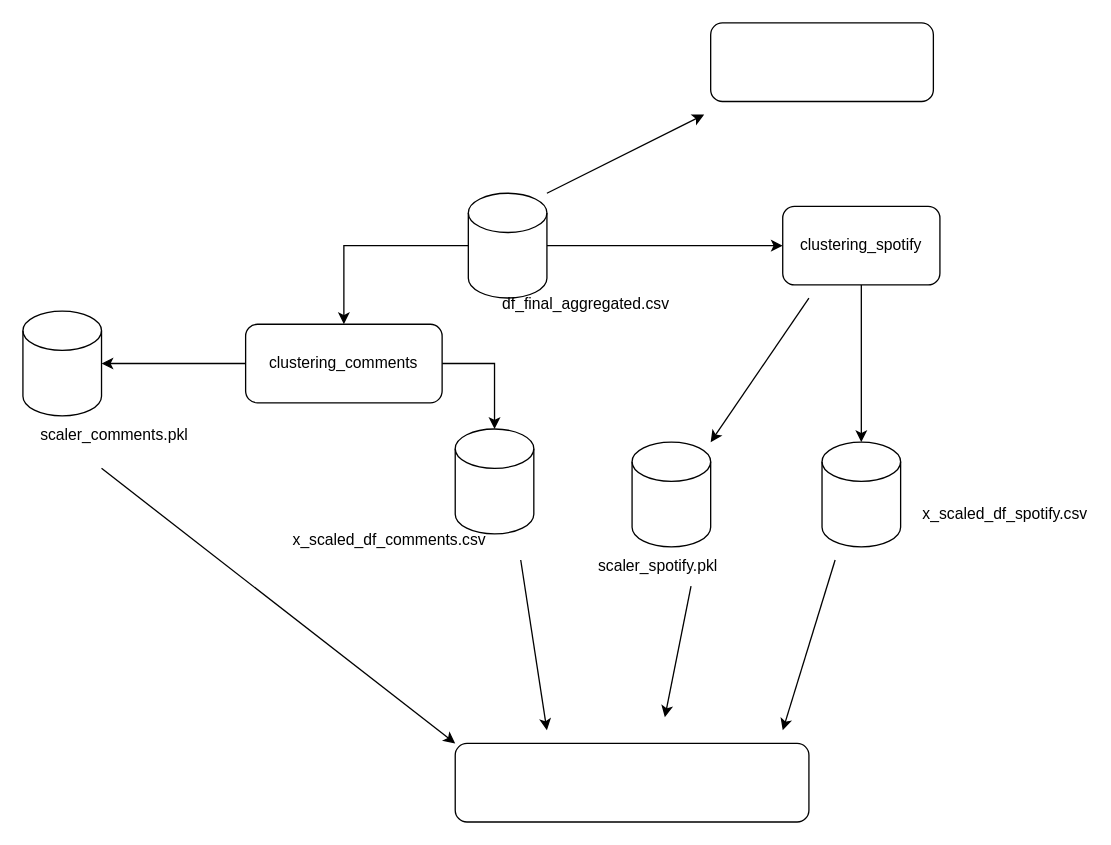
Image size: 1111x845. Some labels were removed from this diagram. The shapes that lost their labels are listed below. From the top down, each one's centre as x and y in pixels, then its label:
At point (821, 62): "ml_multi_class_multi_label".
At point (631, 782): "merging_the_two_clusters_and_recommending".
